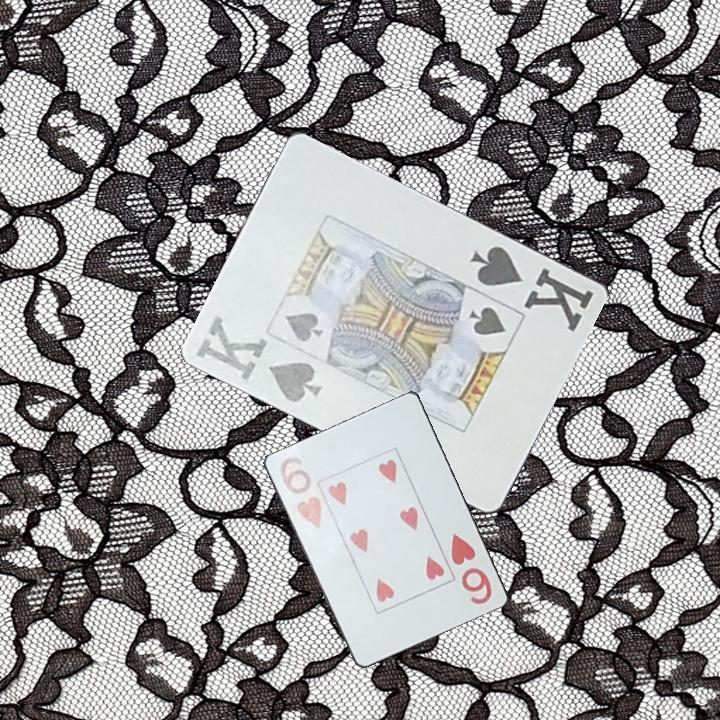6h: (273, 453, 324, 534), (447, 530, 495, 607)
Ks: (193, 312, 325, 406), (467, 242, 598, 335)
